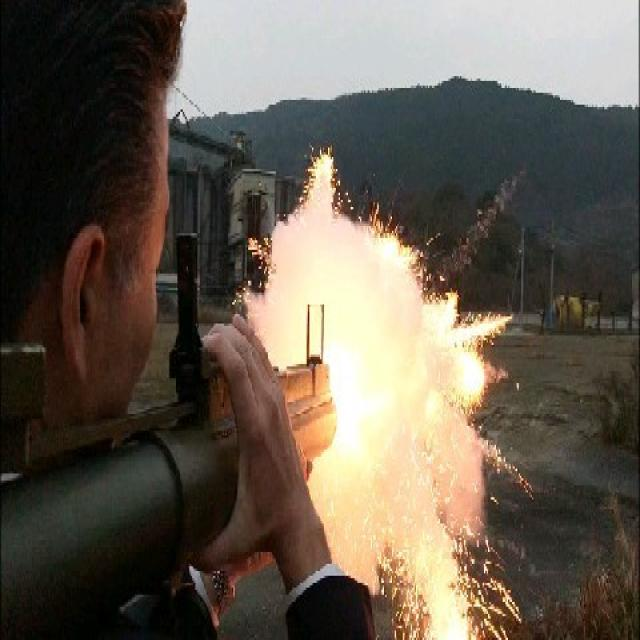bazooka: (1, 136, 375, 640)
